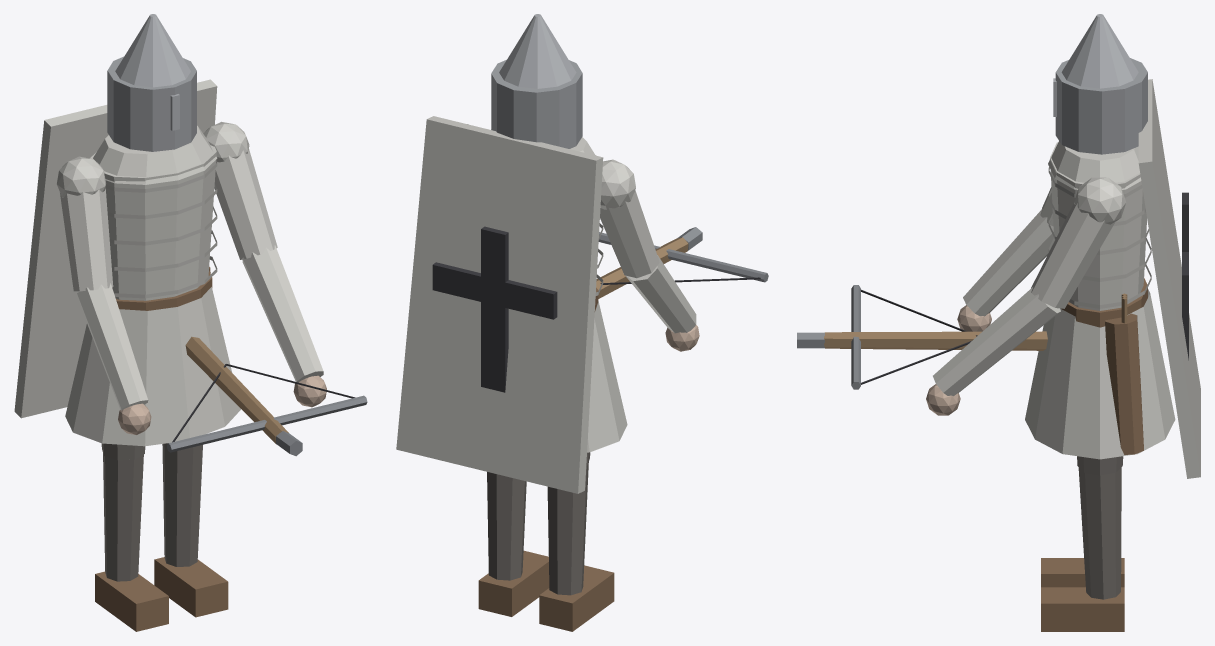
Rendered from crossbowman_ally.glb.
The picture shows the model from 3 angles, left to right: view 1: azimuth 30°, elevation 25°; view 2: azimuth 150°, elevation 25°; view 3: azimuth 270°, elevation 25°; orthographic projection. The views are drawn at different scales.
Parts seen in each view (by area): view 1: body, arm_r, arm_l, leg_r, leg_l; view 2: body, arm_r, leg_r, leg_l; view 3: body, arm_l, arm_r, leg_l, leg_r.
Boxes of the visible parts, <box> form: body: <box>14,14,240,446</box>; arm_r: <box>57,156,367,456</box>; arm_l: <box>203,121,326,407</box>; leg_r: <box>95,443,168,631</box>; leg_l: <box>154,443,228,617</box>; body: <box>396,14,627,493</box>; arm_r: <box>596,159,768,351</box>; leg_r: <box>539,452,614,631</box>; leg_l: <box>478,472,549,616</box>; body: <box>1025,14,1200,478</box>; arm_l: <box>926,177,1126,415</box>; arm_r: <box>797,187,1054,389</box>; leg_l: <box>1041,456,1124,631</box>; leg_r: <box>1041,558,1124,587</box>.
Size of the model in its own units: 0.676 by 1.88 by 1.16.
